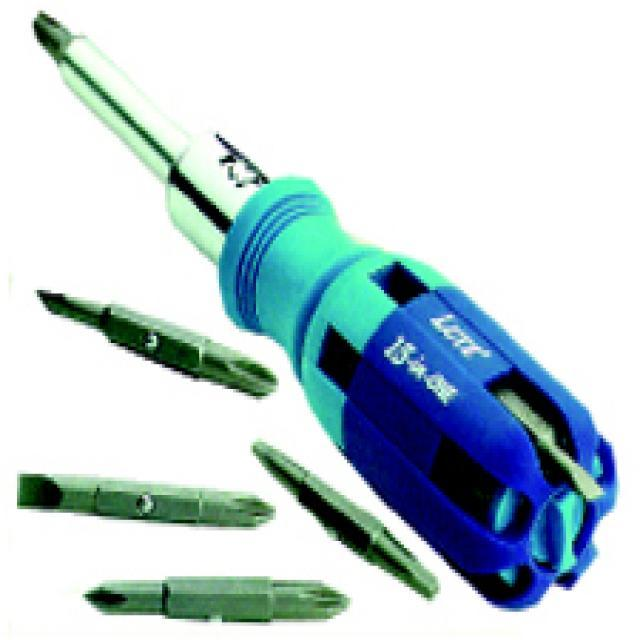screwdriver: (33, 14, 614, 601)
